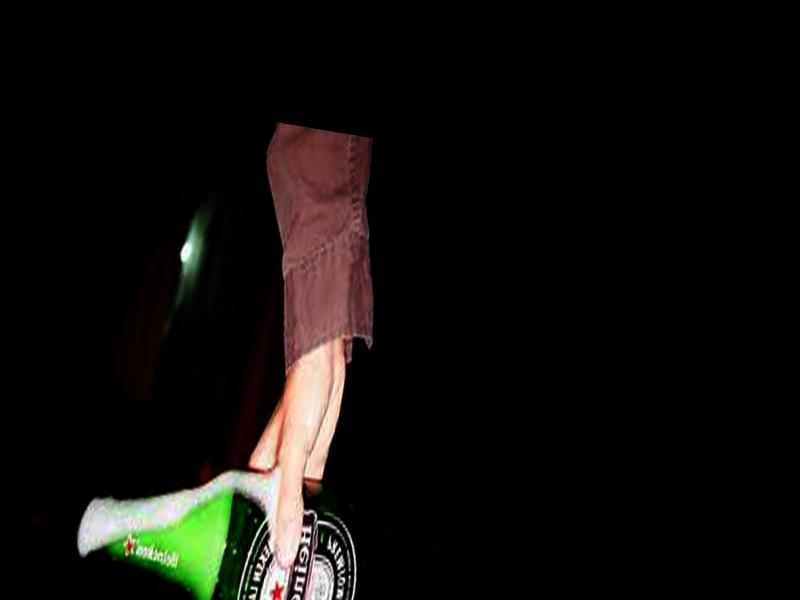Beer: (80, 444, 379, 600)
